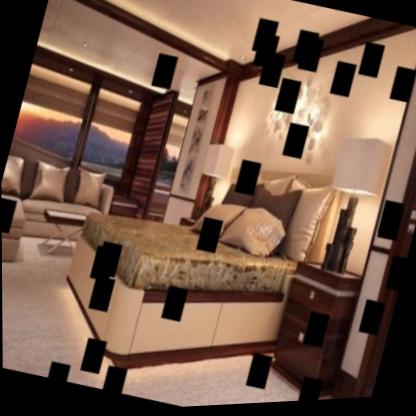Bed: (46, 142, 310, 396)
Lamp: (301, 126, 403, 281), (177, 136, 239, 237)
Nightstand: (248, 248, 368, 406)
Sofa: (1, 139, 102, 245)
